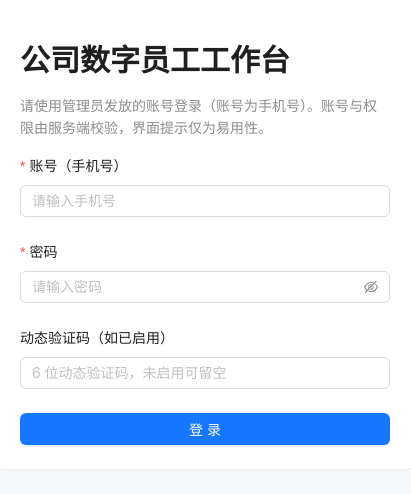
Test: LoginPage › 401 密码错：显示服务端短文案，且不写入任何会话
The width and height of the screenshot is (411, 494).
Step 1. Type "13800000000" into the field labelled "账号（手机号）" → (205, 201), box [20,185,390,217]
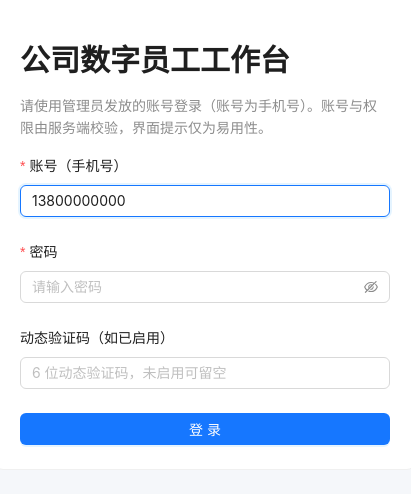
Step 2. Type "pw-123456" into the password field labelled "密码" → (196, 287), box [32,276,360,298]
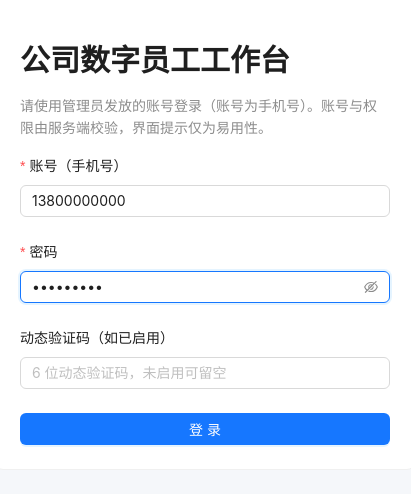
Step 3. Click the button "登 录" → (205, 429), box [20,413,390,445]
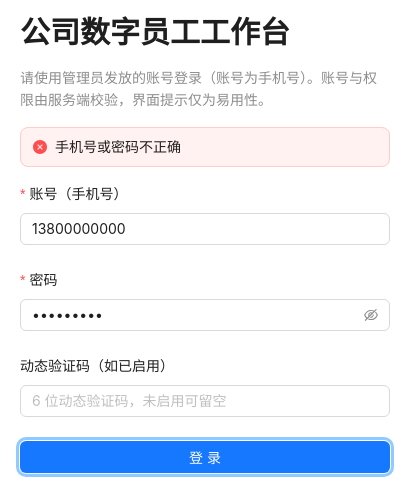
Expected: the text "手机号或密码不正确" is shown, [55,138,181,155]
